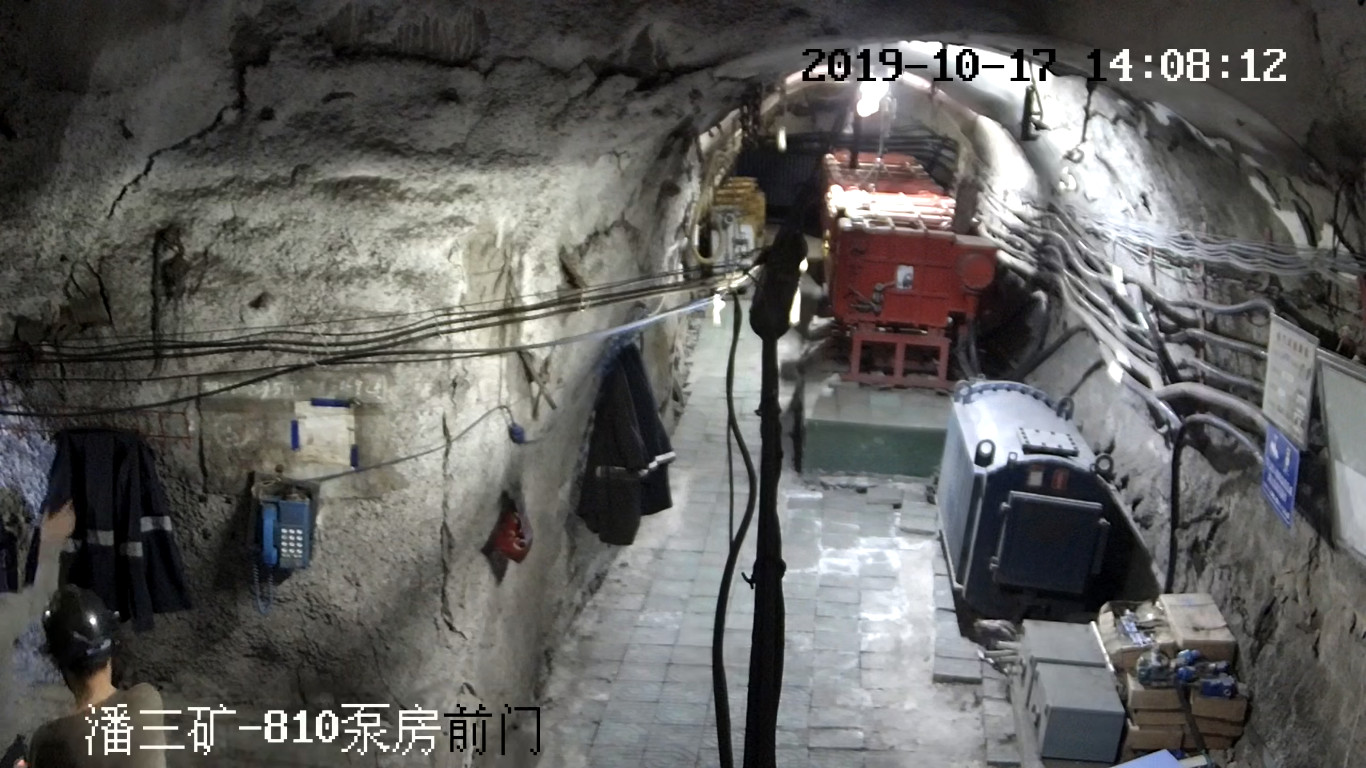helmet: (42, 584, 118, 667)
